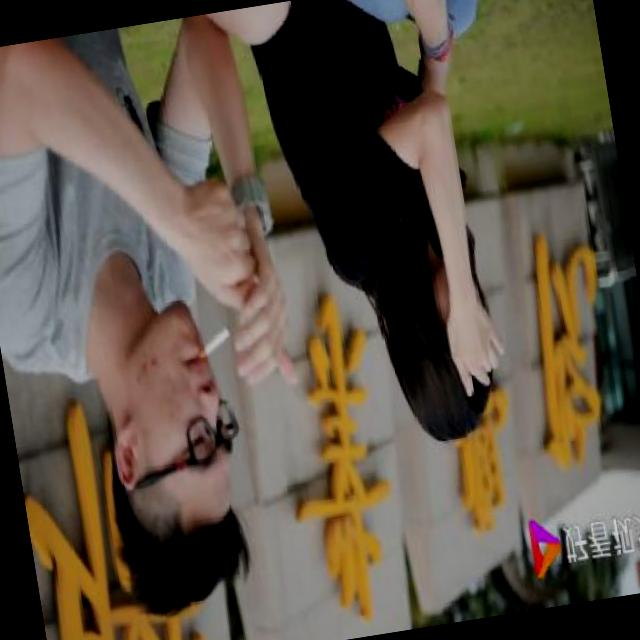cigarette: (190, 312, 240, 374)
